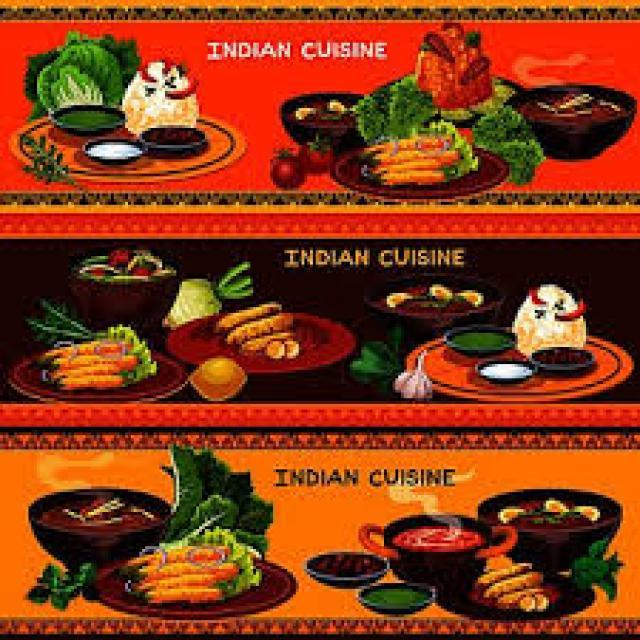dal: (67, 246, 182, 313), (489, 485, 614, 542)
sambar-rasam: (29, 480, 168, 545), (71, 245, 177, 314), (520, 84, 626, 141)
